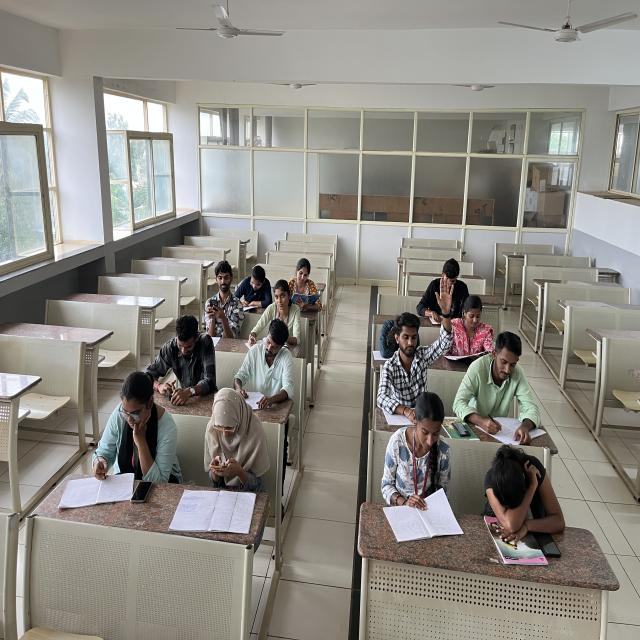Hand Rising: (386, 276, 452, 412)
Reading: (377, 387, 459, 529), (438, 289, 496, 367), (421, 261, 473, 329), (286, 254, 330, 313)
Sleeping: (478, 443, 570, 528)
Using Phone: (195, 379, 278, 507), (129, 310, 221, 407), (199, 256, 245, 336)
Writing: (80, 363, 187, 505), (453, 334, 545, 439), (233, 320, 296, 410), (249, 278, 304, 348), (231, 256, 270, 314)
